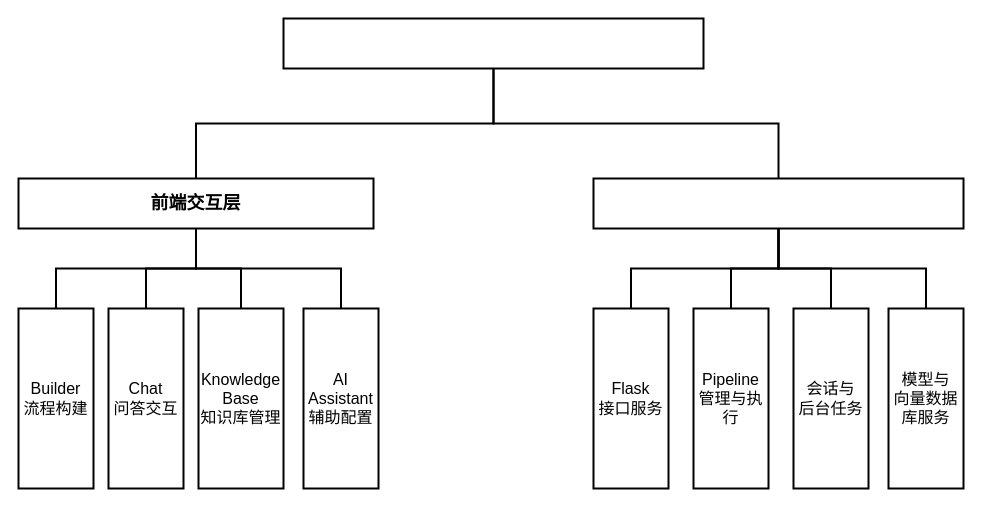
This 981x506 diagram has some shape labels left out. The shapes that lost their labels are listed below. From the top down, each one's centre as x and y in pixels, then its label:
At point 493,43: "基于 RAG 技术的软件工程领域精准问答系统".
At point 778,203: "后端服务层".
